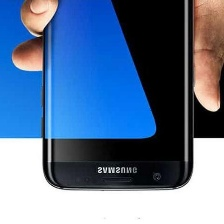phone: (38, 0, 197, 195)
